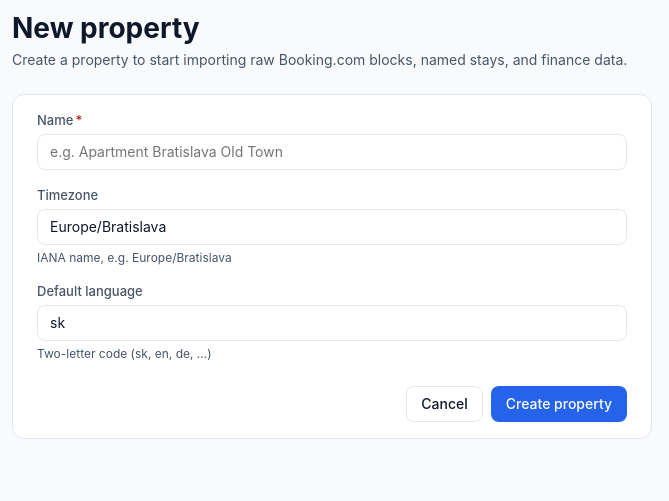
PropertyFormView › shows an error banner when the API rejects
Type "X" into the field labelled "Name*" at [332, 152], box [37,134,627,170]
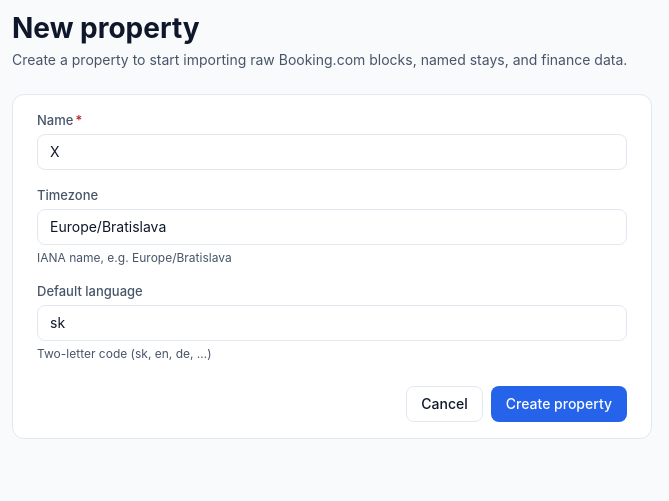
Submit the form, box [37,111,627,422]
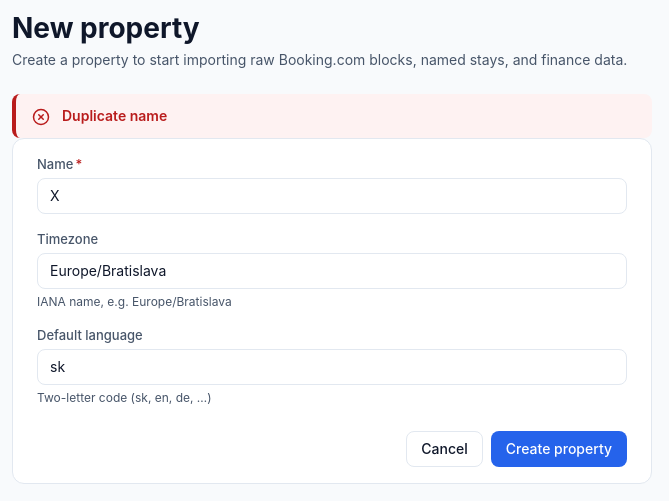
Now the text "Duplicate name" is shown, box [62,107,167,124]
